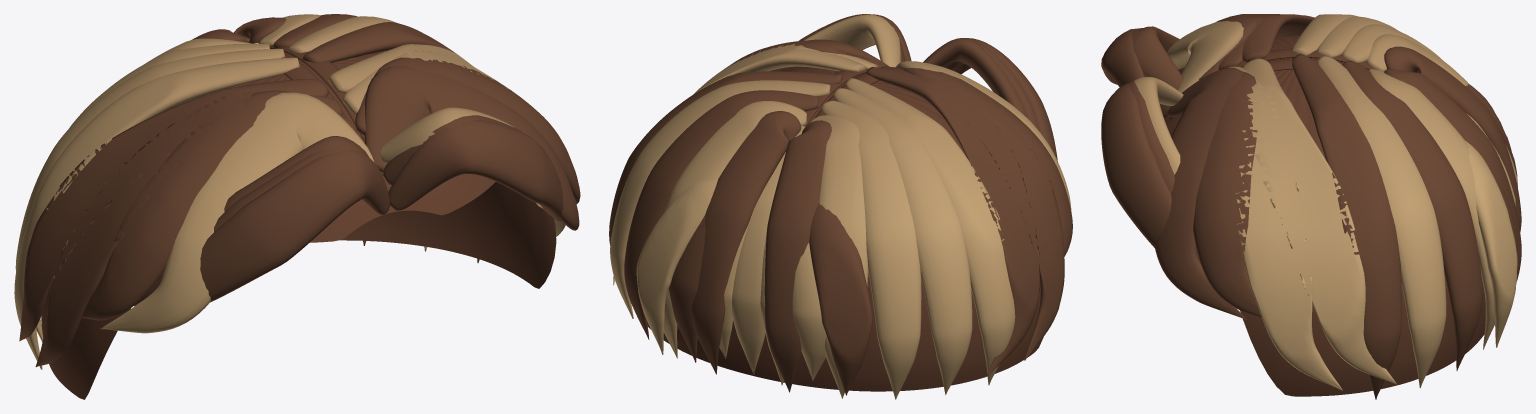
The model's file is Highlights-f8b6d105a21d251-hair.glb.
3 views of the same model, side by side, from view 1: azimuth 30°, elevation 25°; view 2: azimuth 150°, elevation 25°; view 3: azimuth 270°, elevation 25° (orthographic). The views are drawn at different scales.
Visible parts, largest first — view 1: 226 hair / Hair / chestnut226.002, 226 hair / Hair / recessed roots251.002, 226 hair / Hair / main251.001, 226 hair / Hair / accent251.001, 226 hair / Hair / recessed roots251.003; view 2: 226 hair / Hair / main251.001, 226 hair / Hair / accent251.001, 226 hair / Hair / chestnut226.002, 226 hair / Hair / recessed roots251.002, 226 hair / Hair / recessed roots251.003; view 3: 226 hair / Hair / chestnut226.002, 226 hair / Hair / main251.001, 226 hair / Hair / accent251.001, 226 hair / Hair / recessed roots251.002, 226 hair / Hair / recessed roots251.003.
Boxes of the visible parts, left/top/right/bottom form: 226 hair / Hair / chestnut226.002: left=19, top=44, right=580, bottom=366; 226 hair / Hair / recessed roots251.002: left=41, top=51, right=556, bottom=399; 226 hair / Hair / main251.001: left=14, top=14, right=479, bottom=369; 226 hair / Hair / accent251.001: left=15, top=14, right=427, bottom=342; 226 hair / Hair / recessed roots251.003: left=269, top=44, right=383, bottom=175; 226 hair / Hair / main251.001: left=609, top=71, right=1015, bottom=399; 226 hair / Hair / accent251.001: left=610, top=80, right=972, bottom=398; 226 hair / Hair / chestnut226.002: left=613, top=14, right=1072, bottom=376; 226 hair / Hair / recessed roots251.002: left=647, top=67, right=1043, bottom=391; 226 hair / Hair / recessed roots251.003: left=804, top=69, right=879, bottom=126; 226 hair / Hair / chestnut226.002: left=1101, top=14, right=1396, bottom=390; 226 hair / Hair / main251.001: left=1292, top=14, right=1521, bottom=399; 226 hair / Hair / accent251.001: left=1317, top=16, right=1517, bottom=388; 226 hair / Hair / recessed roots251.002: left=1164, top=35, right=1485, bottom=396; 226 hair / Hair / recessed roots251.003: left=1169, top=48, right=1374, bottom=120.
Size of the model in its own units: 1.07 by 0.5895 by 0.8758.
